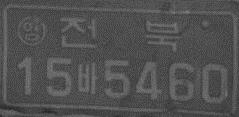0: (201, 62, 229, 105)
1: (13, 55, 39, 96)
4: (134, 60, 162, 101)
5: (103, 58, 131, 99), (45, 56, 72, 98)
6: (167, 61, 195, 102)
바: (76, 61, 99, 95)
영: (16, 15, 47, 47)
전북_D: (58, 15, 179, 52)
